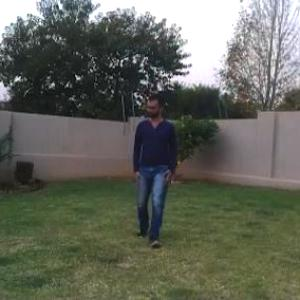follow: (130, 86, 176, 245)
